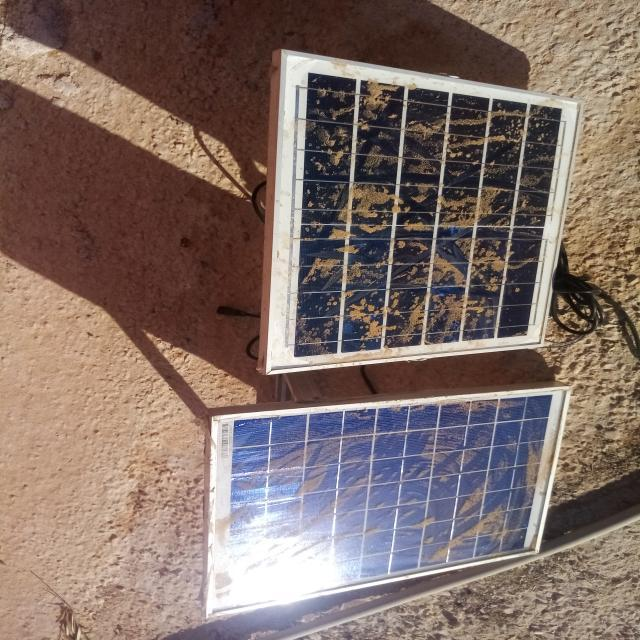faulty: (267, 49, 583, 372), (209, 389, 572, 615)
